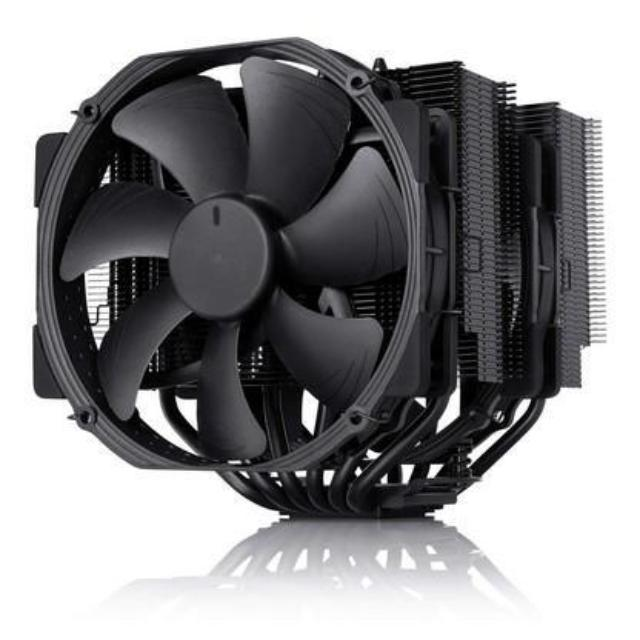CPU_Fan: (34, 44, 608, 522)
